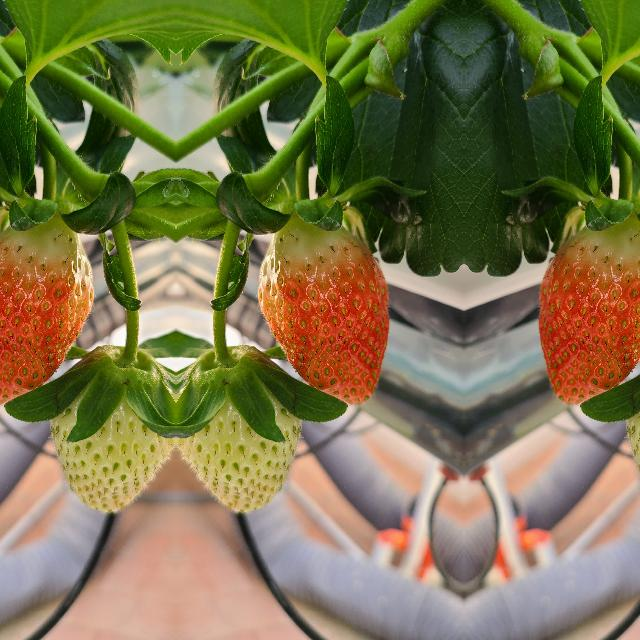Health_100: (255, 217, 390, 405), (536, 217, 640, 405), (0, 217, 95, 405)
Health_25: (49, 348, 174, 512), (176, 348, 300, 512)
